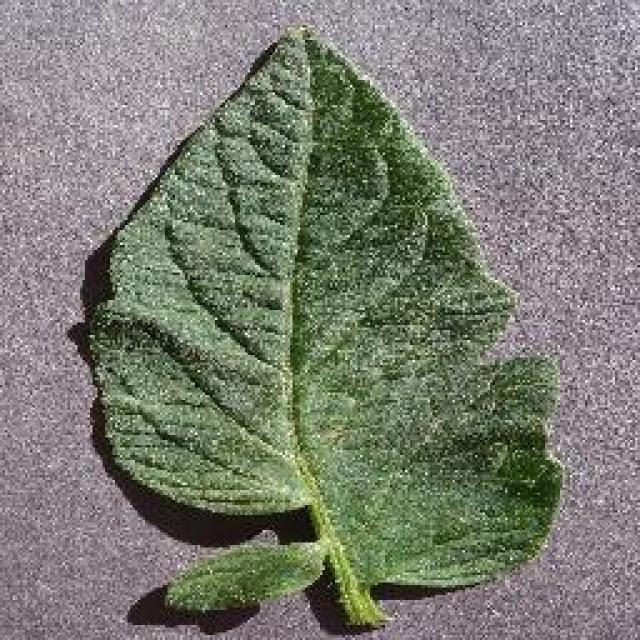Tomato___healthy: (85, 25, 566, 622)
